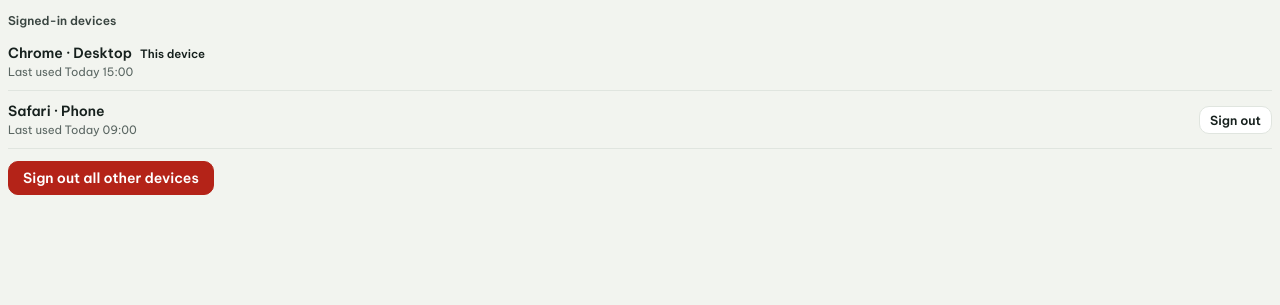
the section and its states (R14) › a reload keeps the rows in the document while it runs, and a failed one keeps them too
Later steps or results of the test are not shown.
// "Sign out all other devices" reads the list again
Click the button "Sign out all other devices". click: (111, 178)
box: [8,161,214,195]
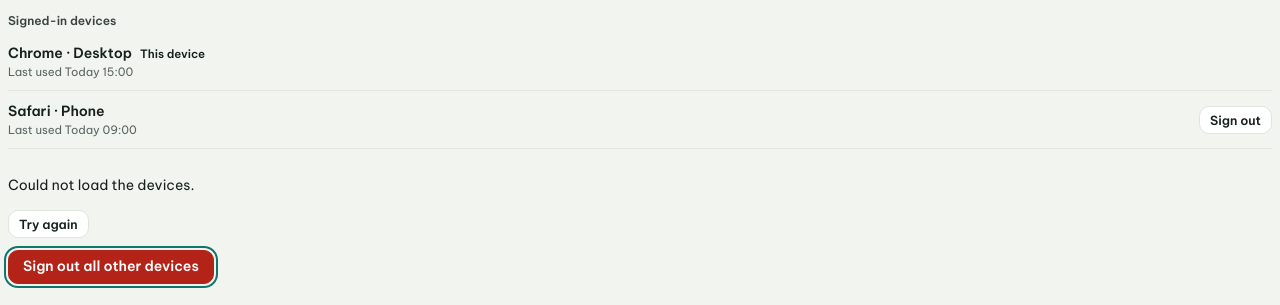
expect the text "Could not load the devices." is shown: met, box [8,176,194,194]
expect the button "Try again" is shown: met, box [8,210,89,238]
